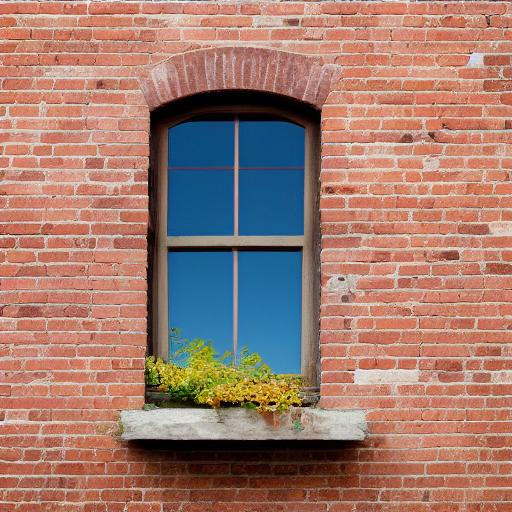Window: (122, 45, 369, 446)
